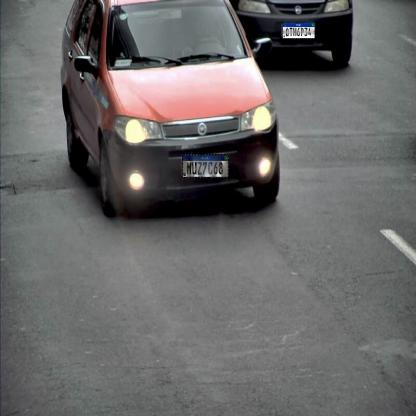PlacaM: (182, 154, 229, 178), (282, 22, 315, 39)
